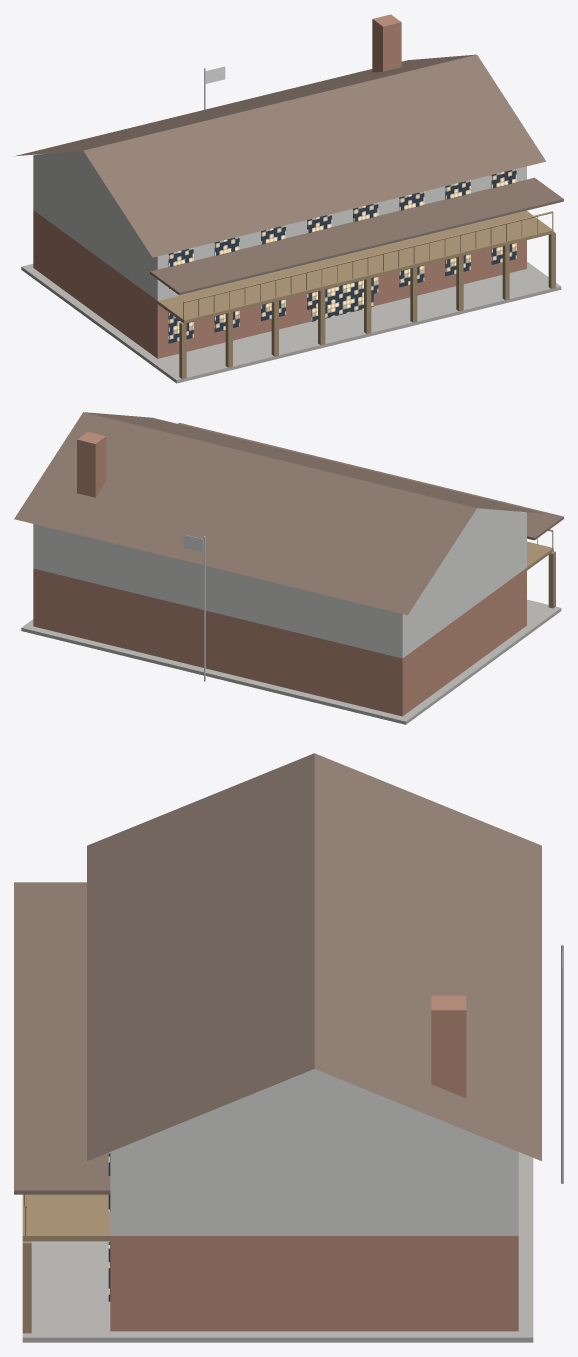
The model's file is clubhouse.glb.
3 views of the same model, one above another, from view 1: azimuth 30°, elevation 25°; view 2: azimuth 150°, elevation 25°; view 3: azimuth 270°, elevation 25° (orthographic). The views are drawn at different scales.
Visible parts, largest first — view 1: clubhouse; view 2: clubhouse; view 3: clubhouse.
Part boxes in pixels (x1=…): clubhouse: x1=14, y1=14, x2=563, y2=383; clubhouse: x1=14, y1=412, x2=563, y2=724; clubhouse: x1=14, y1=753, x2=563, y2=1342.
Bounding box in the file's own units: 25.6 × 11.5 × 18.85.
